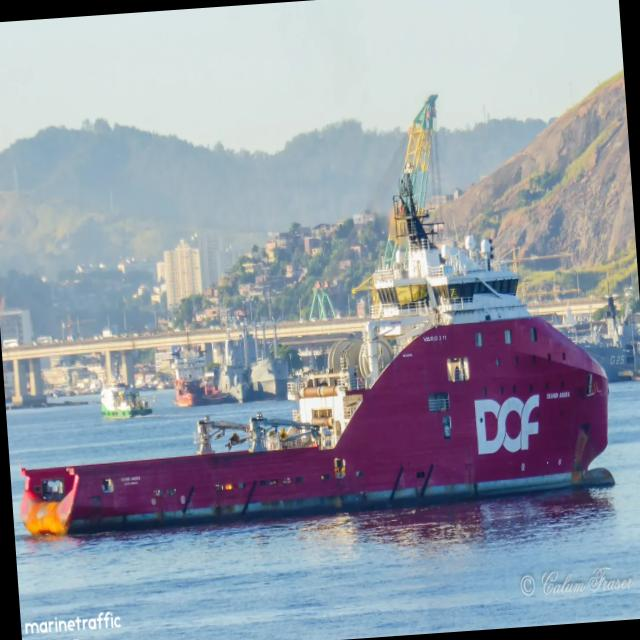Offshore: (20, 97, 614, 533)
